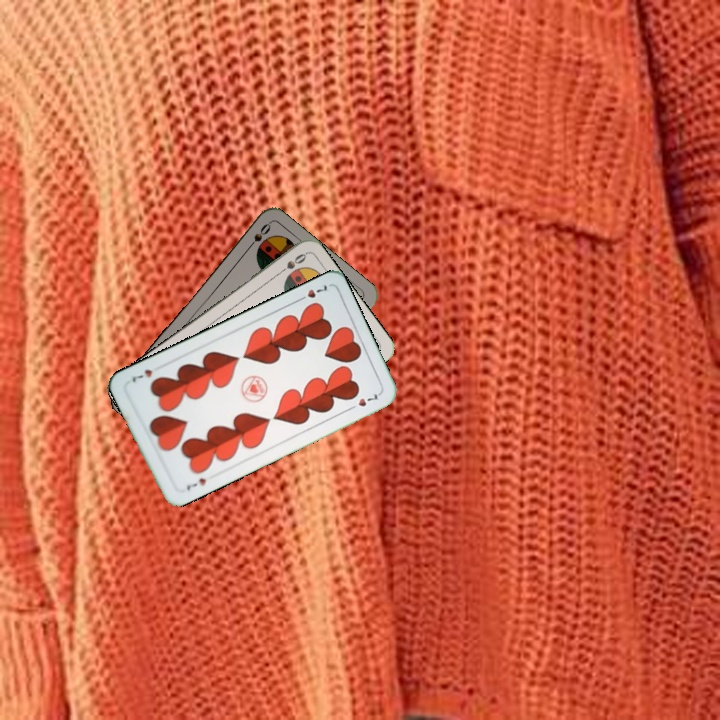H7: (293, 281, 329, 305), (182, 474, 209, 494)
SO: (242, 219, 274, 254), (273, 249, 309, 278)
